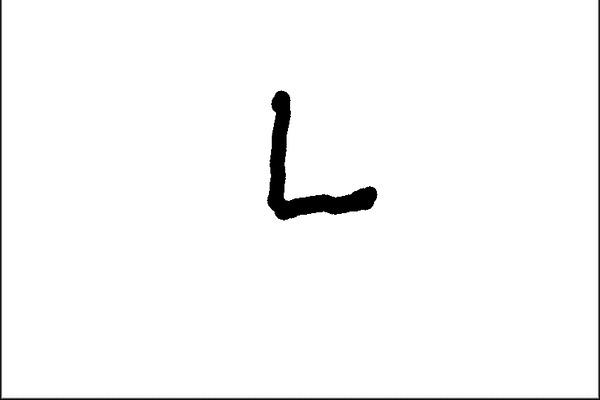L: (259, 83, 380, 225)
